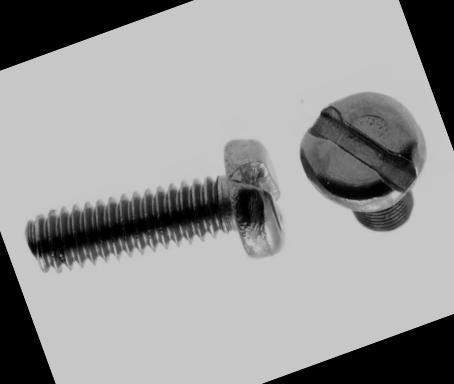screw: (280, 71, 444, 231)
